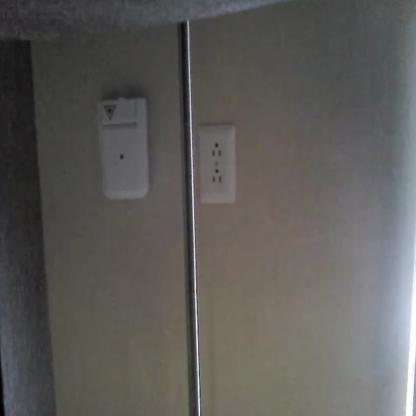OUTLET: (199, 126, 236, 204)
